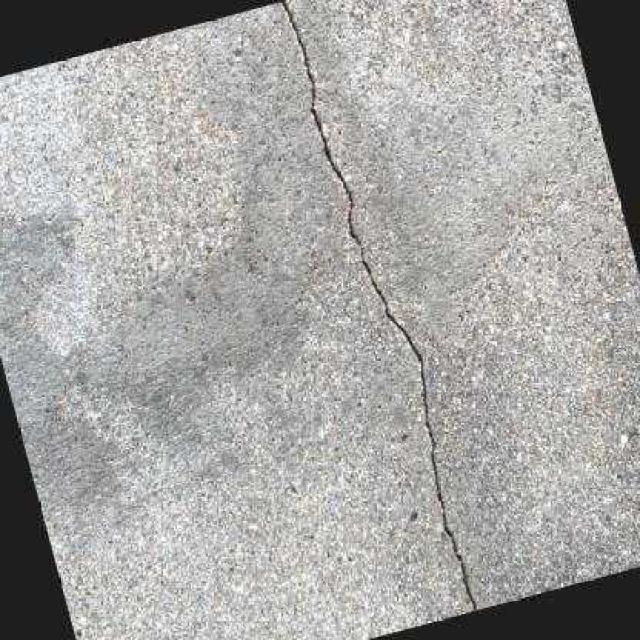D00: (279, 0, 474, 611)
